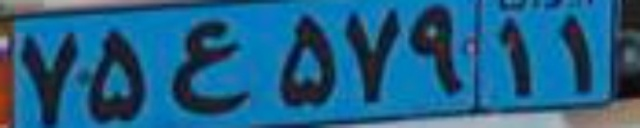1: (552, 12, 592, 93), (495, 16, 534, 98)
5: (81, 29, 151, 121), (273, 13, 337, 106)
7: (345, 5, 400, 103), (20, 31, 76, 125)
9: (408, 6, 470, 96)
ain: (169, 19, 253, 118)
